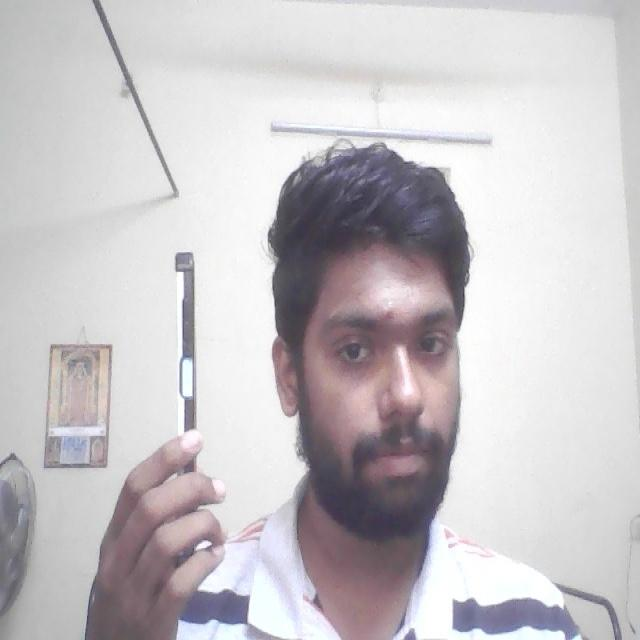Mobile: (164, 245, 203, 427)
